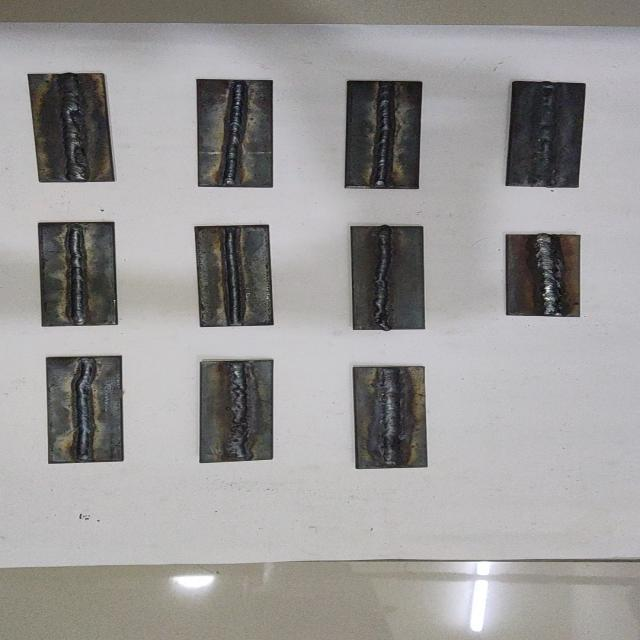Welding Line: (59, 75, 84, 181), (222, 82, 245, 186), (74, 358, 96, 461), (535, 84, 557, 186), (381, 368, 402, 468), (534, 236, 560, 314), (228, 362, 249, 458), (67, 224, 86, 324), (374, 226, 392, 328), (224, 228, 242, 326), (377, 82, 393, 188)
Workpiece: (27, 72, 117, 183), (502, 80, 590, 189), (36, 219, 124, 328), (44, 354, 130, 464), (343, 77, 425, 192), (194, 77, 276, 189), (189, 224, 277, 328), (348, 224, 430, 332), (196, 357, 277, 465), (349, 364, 430, 471), (502, 232, 584, 318)
